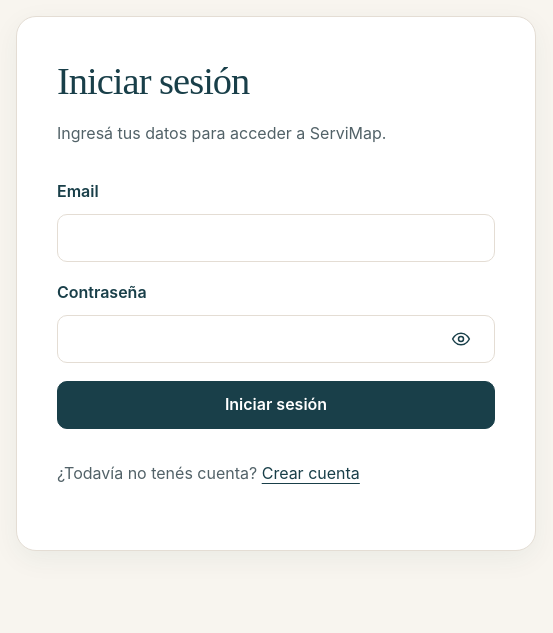
Finalización de la navegación tras login › captura el rechazo de navegación sin dejar una promesa no manejada
The image size is (553, 633).
Type "cliente@example.test" into the field labelled "Email".
click(276, 238); type("cliente@example.test")  # box [57,214,495,262]
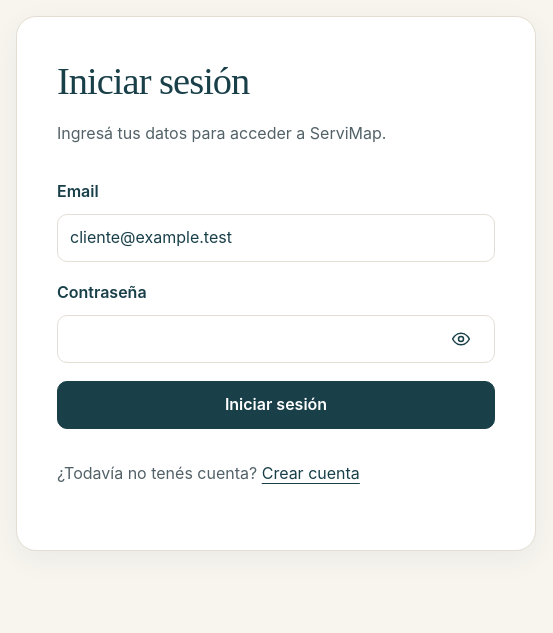
Type "clave-de-prueba" into the password field labelled "Contraseña".
click(276, 339); type("clave-de-prueba")  # box [57,315,495,363]
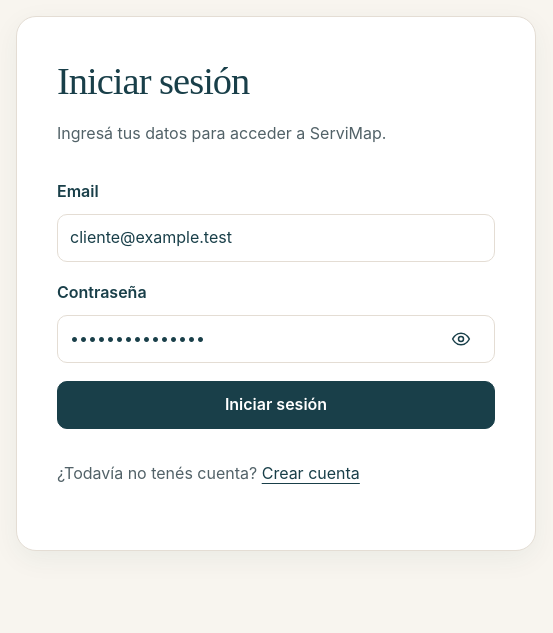
Click the button "Iniciar sesión".
click(276, 405)  # box [57,381,495,429]
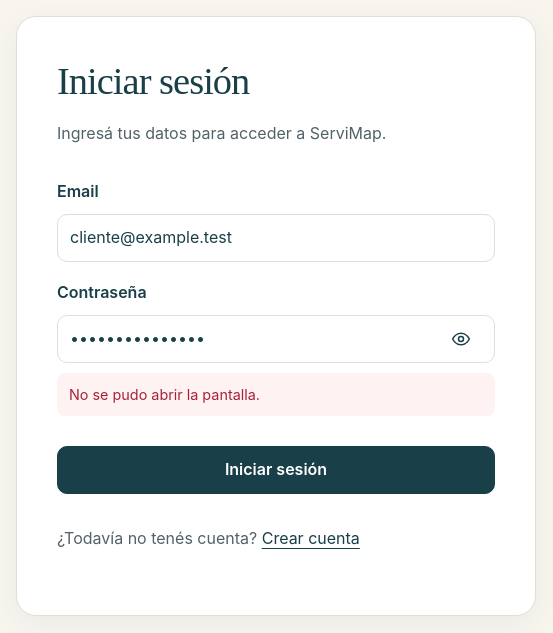
Check: the button "Iniciar sesión" is enabled, box [57,446,495,494]
Check: the message reads "No se pudo abrir la pantalla.", box [69,386,260,403]
